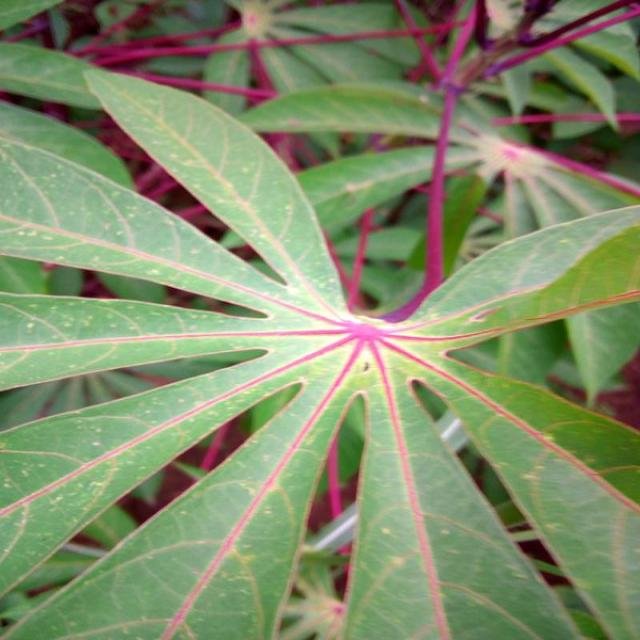cassava leaf: (0, 38, 638, 637)
